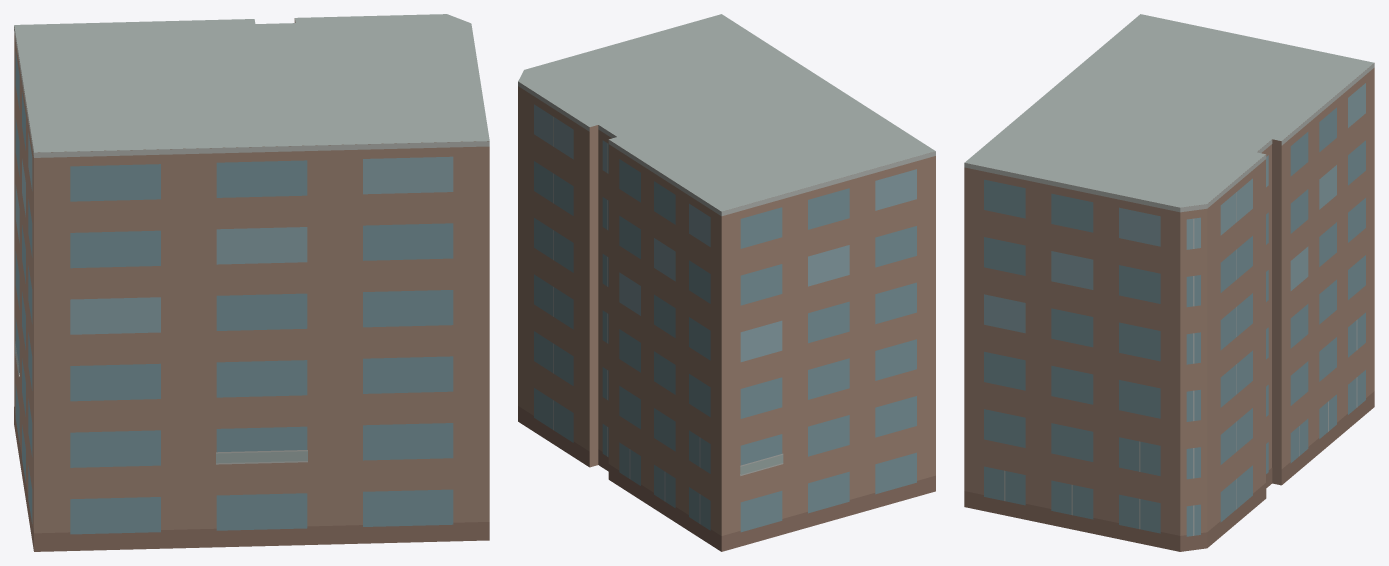
The model's file is survey-upis-32886991.glb.
3 renders of one model, left to right at view 1: azimuth 30°, elevation 25°; view 2: azimuth 150°, elevation 25°; view 3: azimuth 270°, elevation 25°, orthographic. The views are drawn at different scales.
Visible parts, largest first — view 1: survey-upis-32886991.tmp; view 2: survey-upis-32886991.tmp; view 3: survey-upis-32886991.tmp.
Part boxes in pixels (bbox=[...]): survey-upis-32886991.tmp: bbox=[14, 14, 489, 551]; survey-upis-32886991.tmp: bbox=[518, 14, 935, 551]; survey-upis-32886991.tmp: bbox=[964, 14, 1374, 551].
Bounding box in the file's own units: 21.66 × 17.95 × 19.39.
